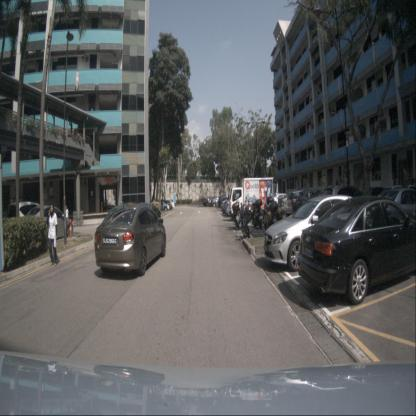cone: (100, 202, 103, 213)
